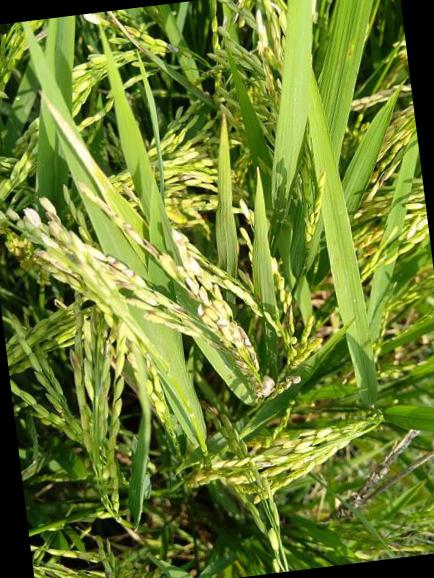Panicle Blight: (76, 180, 258, 373), (38, 198, 187, 315), (172, 230, 209, 278), (108, 11, 141, 40), (286, 300, 295, 334), (317, 324, 331, 341)
